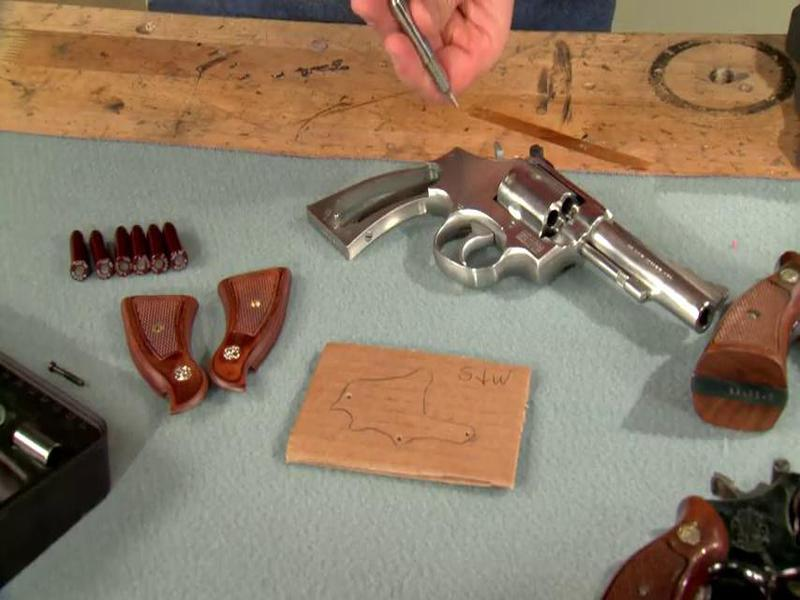Revolver: (289, 102, 734, 396)
